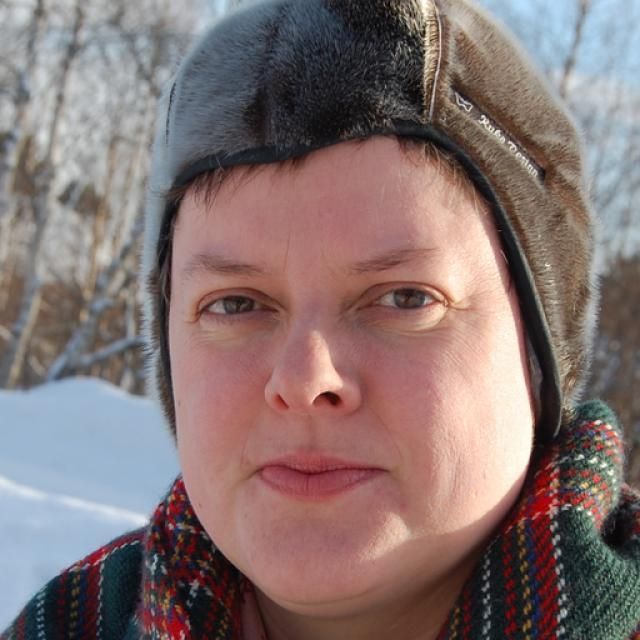content: (167, 127, 535, 605)
